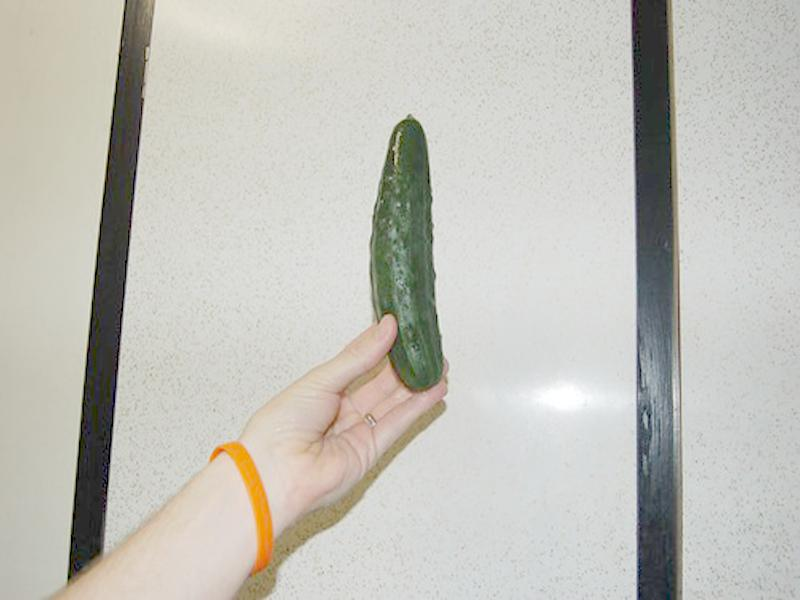Cucumber: (372, 112, 444, 392)
